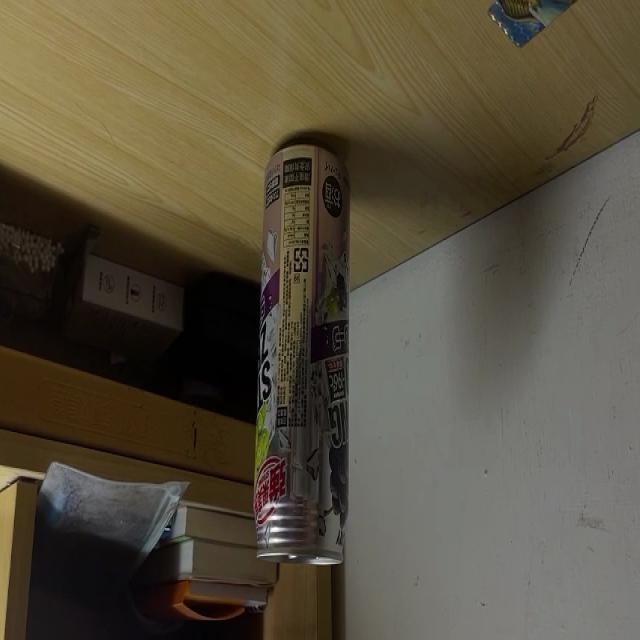Liquor: (256, 136, 350, 572)
